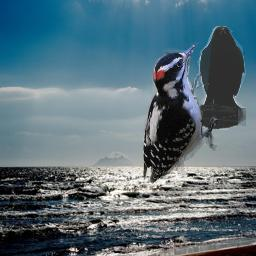Crow: (196, 26, 246, 130)
Woodpecker: (143, 42, 219, 183)
